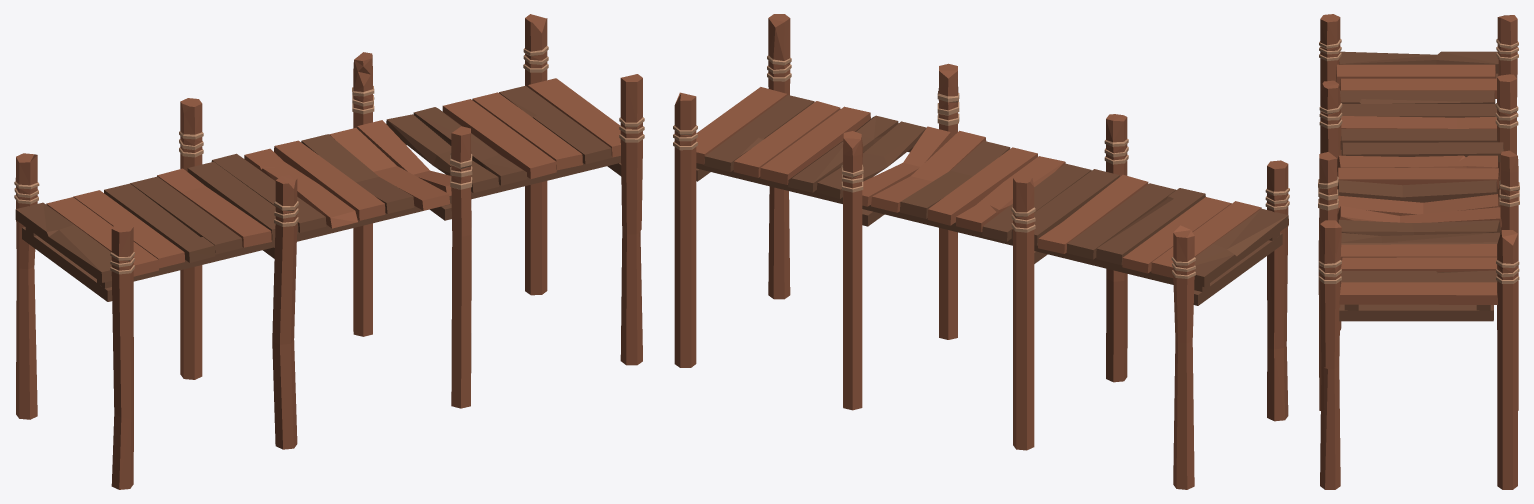
Rendered from Footbridge.fbx.
3 views of the same model, side by side, from view 1: azimuth 30°, elevation 25°; view 2: azimuth 150°, elevation 25°; view 3: azimuth 270°, elevation 25° (orthographic). The views are drawn at different scales.
Visible parts, largest first — view 1: Footbridge; view 2: Footbridge; view 3: Footbridge.
Boxes of the visible parts, x1,y1,x2,y2 form: Footbridge: (14, 14, 644, 489); Footbridge: (673, 14, 1289, 489); Footbridge: (1318, 14, 1519, 489).
Size of the model in its own units: 9 by 4.51 by 3.15.
